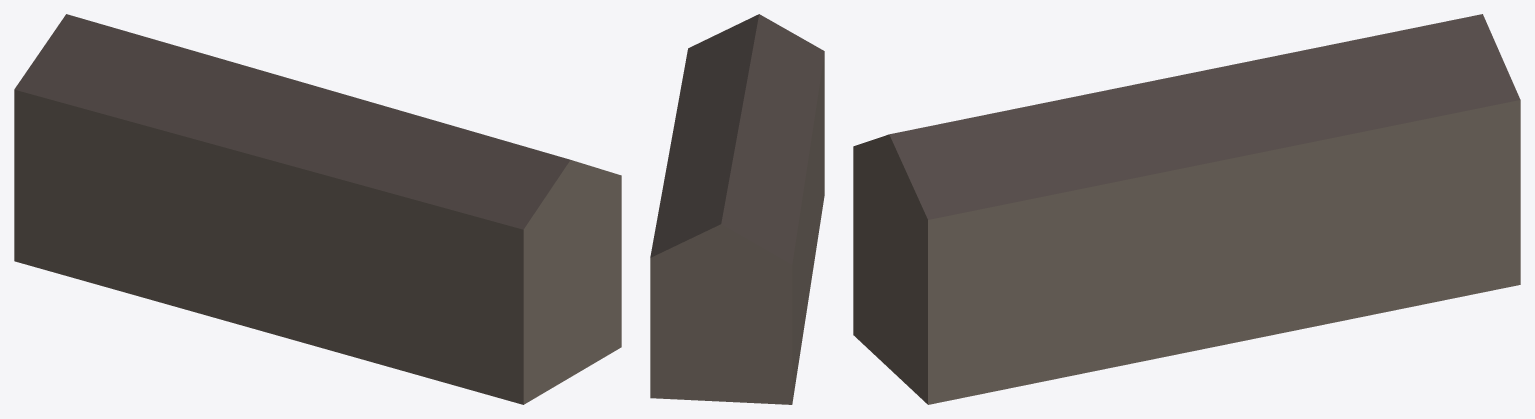
The picture shows the model from 3 angles, left to right: view 1: azimuth 30°, elevation 25°; view 2: azimuth 150°, elevation 25°; view 3: azimuth 270°, elevation 25°; orthographic projection. The views are drawn at different scales.
Visible parts, largest first — view 1: HP-w1198846692; view 2: HP-w1198846692; view 3: HP-w1198846692.
Part boxes in pixels (left/top/right/bottom): HP-w1198846692: left=14, top=14, right=621, bottom=404; HP-w1198846692: left=650, top=14, right=824, bottom=404; HP-w1198846692: left=853, top=14, right=1520, bottom=404.
Bounding box in the file's own units: 13.44 × 7.6 × 19.61.
